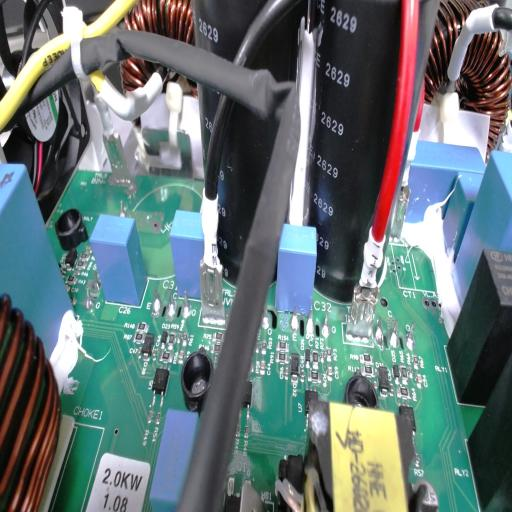pin_group: (148, 278, 196, 325), (370, 311, 419, 355), (286, 297, 333, 342), (260, 297, 273, 334)
solder_ball: (304, 304, 317, 336), (403, 318, 415, 352), (149, 284, 162, 315), (388, 315, 400, 348), (164, 286, 177, 316), (181, 288, 192, 318), (374, 318, 385, 346), (321, 310, 331, 340), (290, 306, 300, 335), (262, 302, 270, 332)
